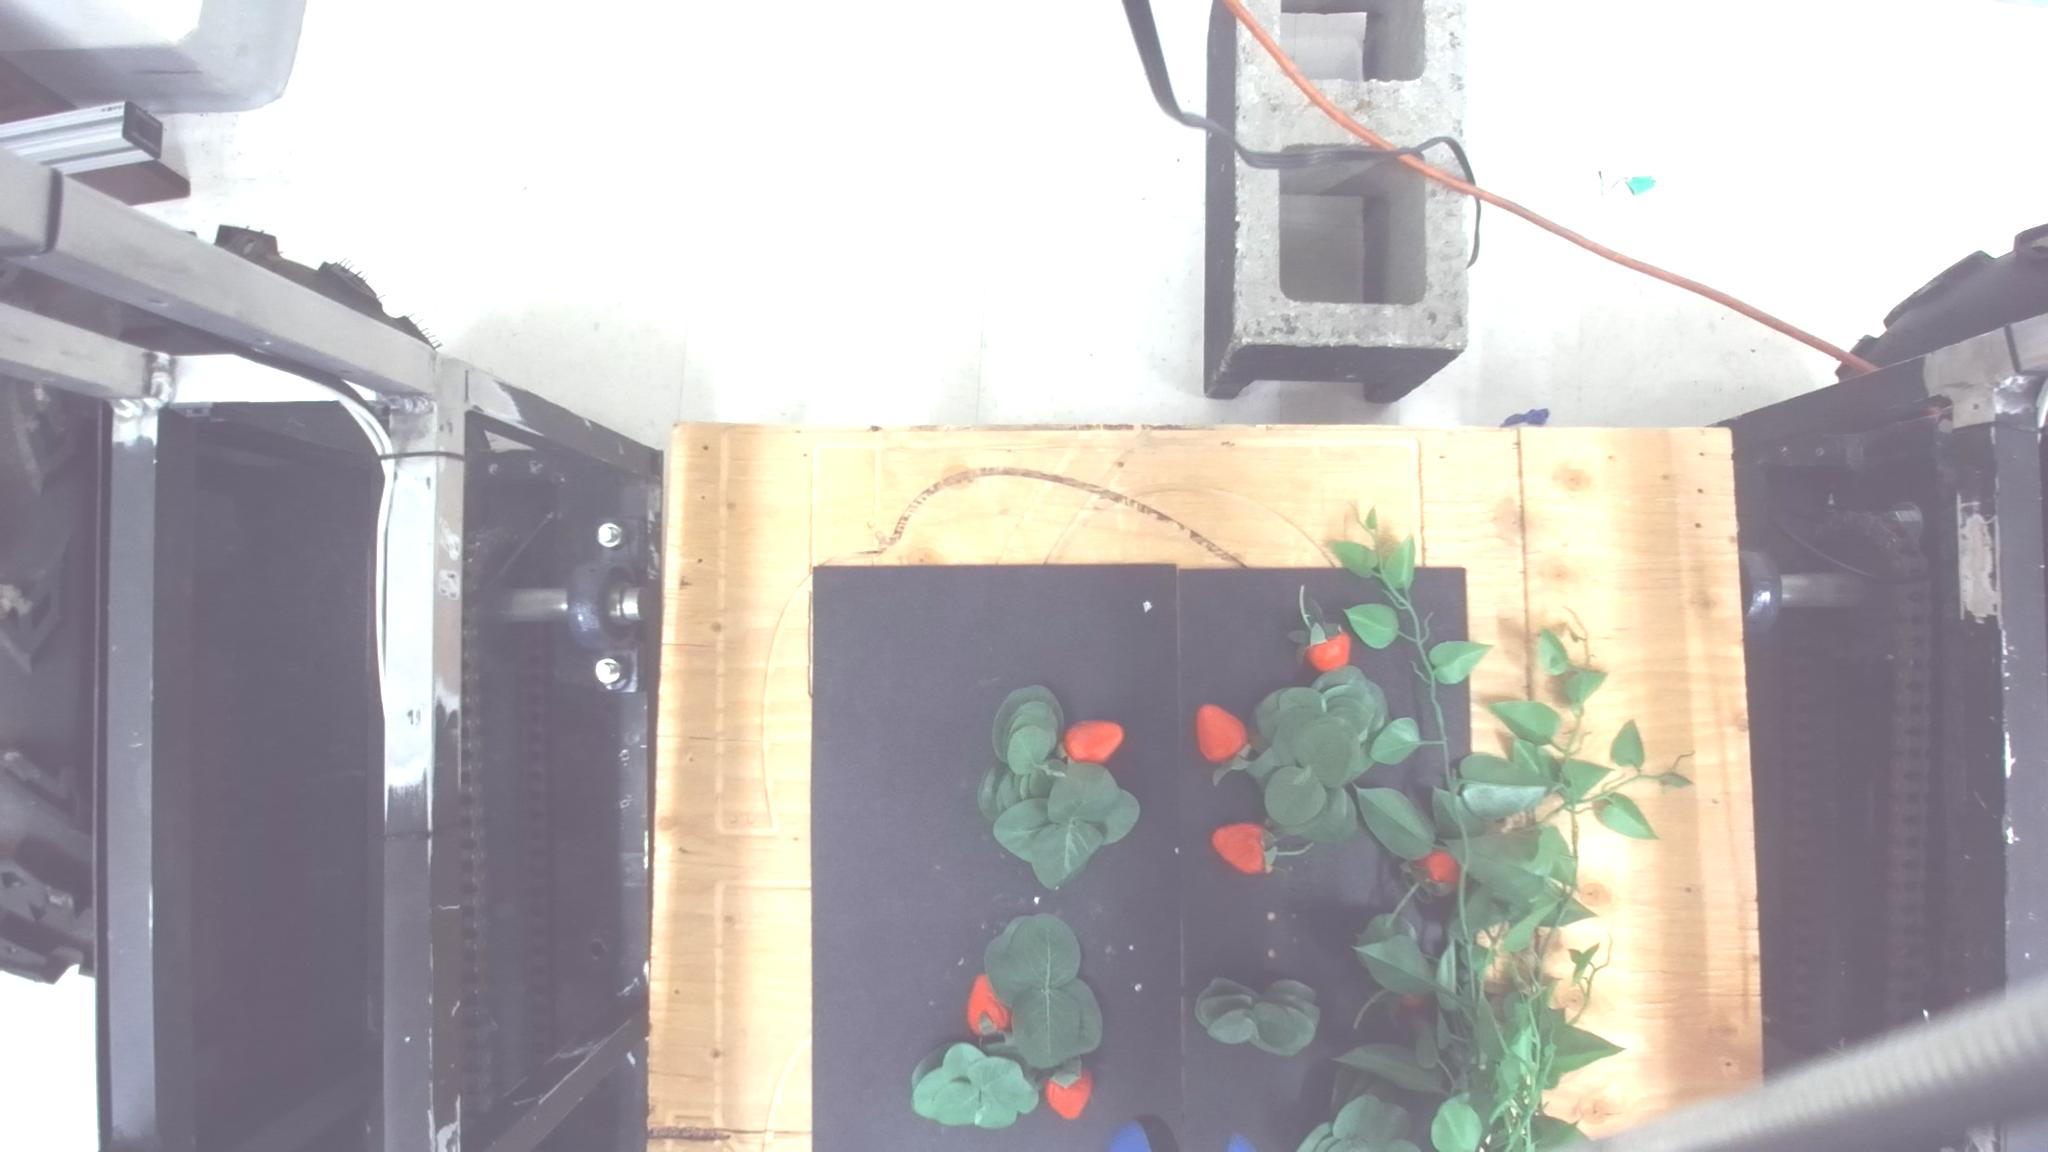strawberry: (1211, 821, 1277, 875), (1196, 702, 1249, 764), (965, 973, 1011, 1038), (1042, 1061, 1093, 1120), (1061, 717, 1124, 764), (1301, 622, 1350, 672), (1411, 850, 1460, 890)
